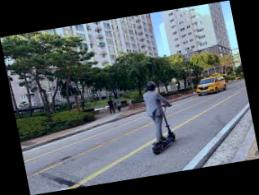helmet: (137, 77, 181, 157)
